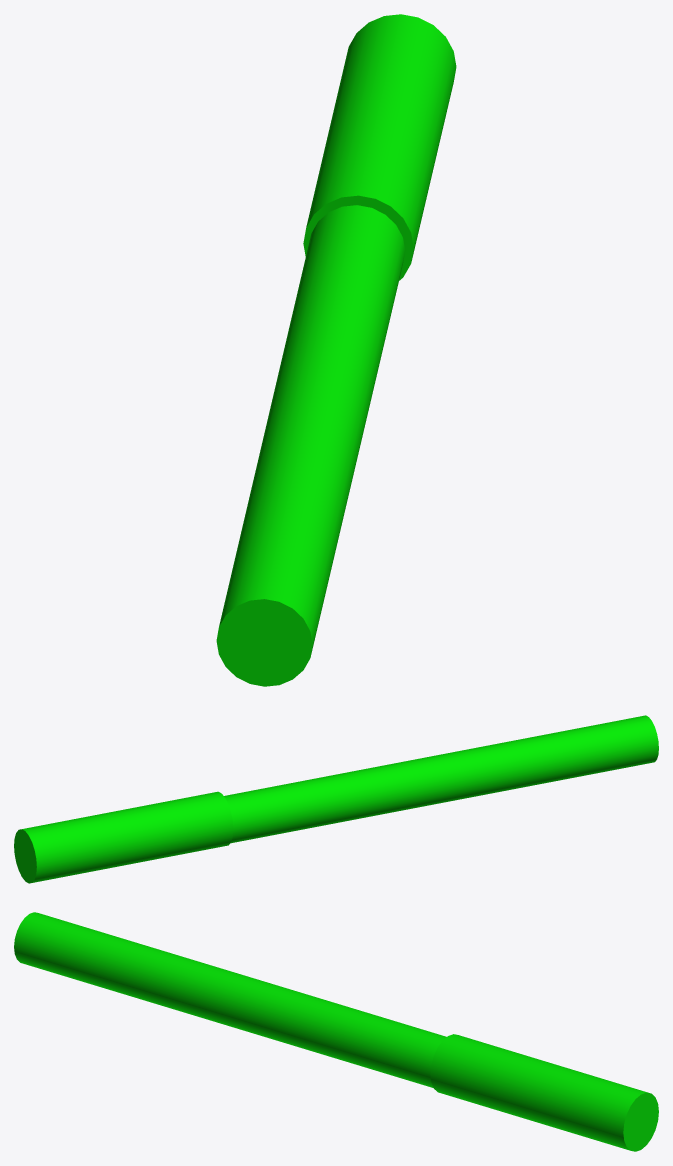
Rendered from Marker_Mesh.fbx.
3 views of the same model, one above another, from view 1: azimuth 30°, elevation 25°; view 2: azimuth 150°, elevation 25°; view 3: azimuth 270°, elevation 25° (orthographic). The views are drawn at different scales.
Parts seen in each view (by area): view 1: Marker_mesh; view 2: Marker_mesh; view 3: Marker_mesh.
Part boxes in pixels (x1,y1,x2,y2): Marker_mesh: (216, 14, 456, 686); Marker_mesh: (14, 715, 658, 883); Marker_mesh: (14, 912, 658, 1151).
Size of the model in its own units: 6.45 by 0.8105 by 8.55.
